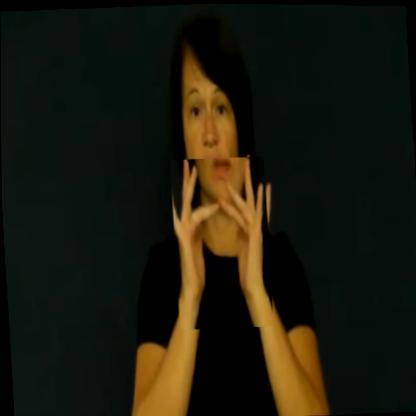Internet: (169, 154, 273, 330)
